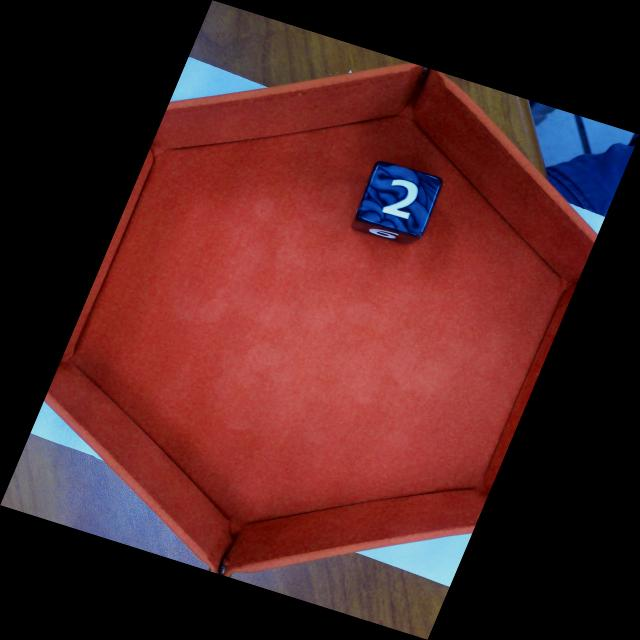dice: (353, 158, 443, 241)
